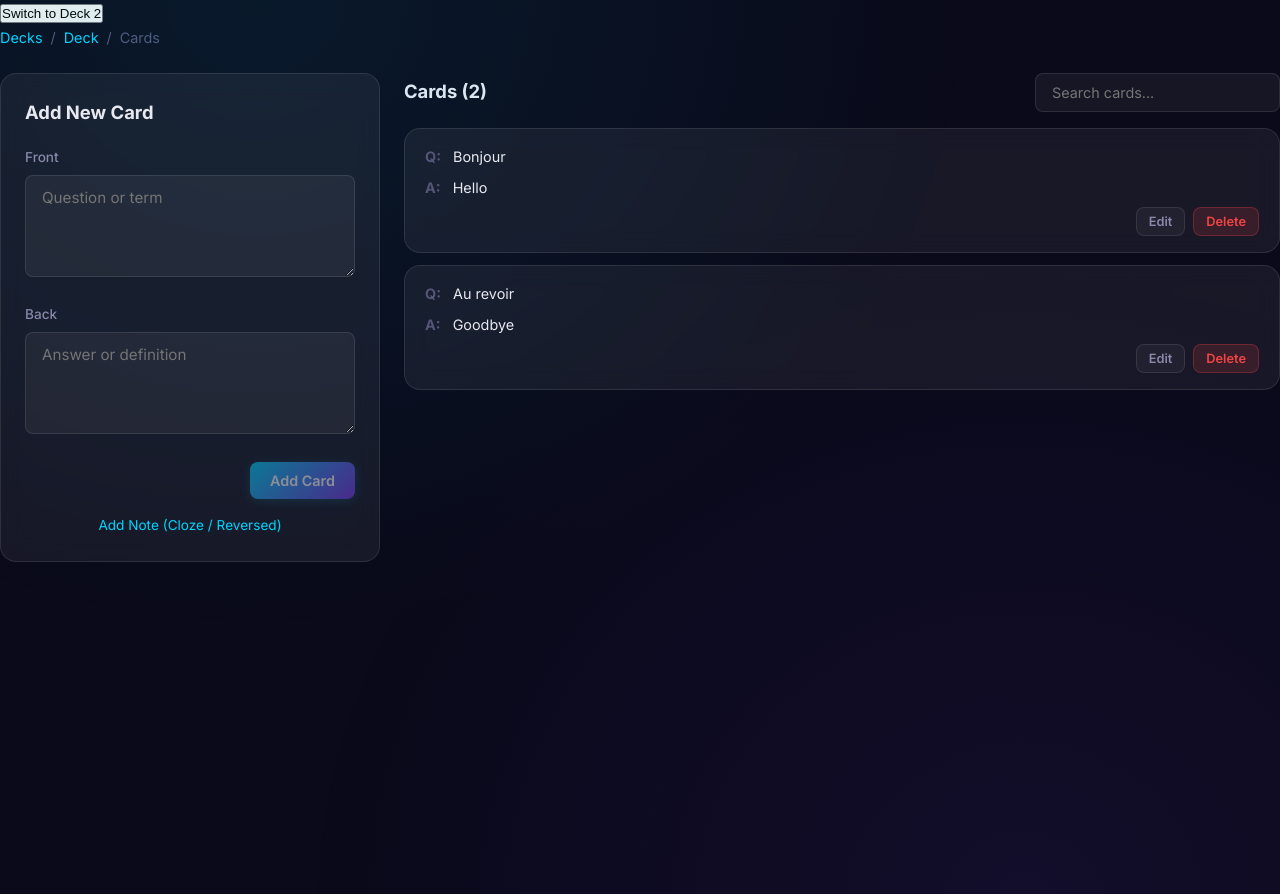
CardEditorPage UI Async Race Conditions › staleerror doesn'treplaceB: late error from A does not replace loaded note B
The image size is (1280, 894).
Expected: the heading "Cards (2)" is shown, [404,77,487,107]
// Click Edit A (slow), then Edit B (fast)
Click the 1st button "Edit".
click(1160, 221)  # box [1136,207,1185,236]
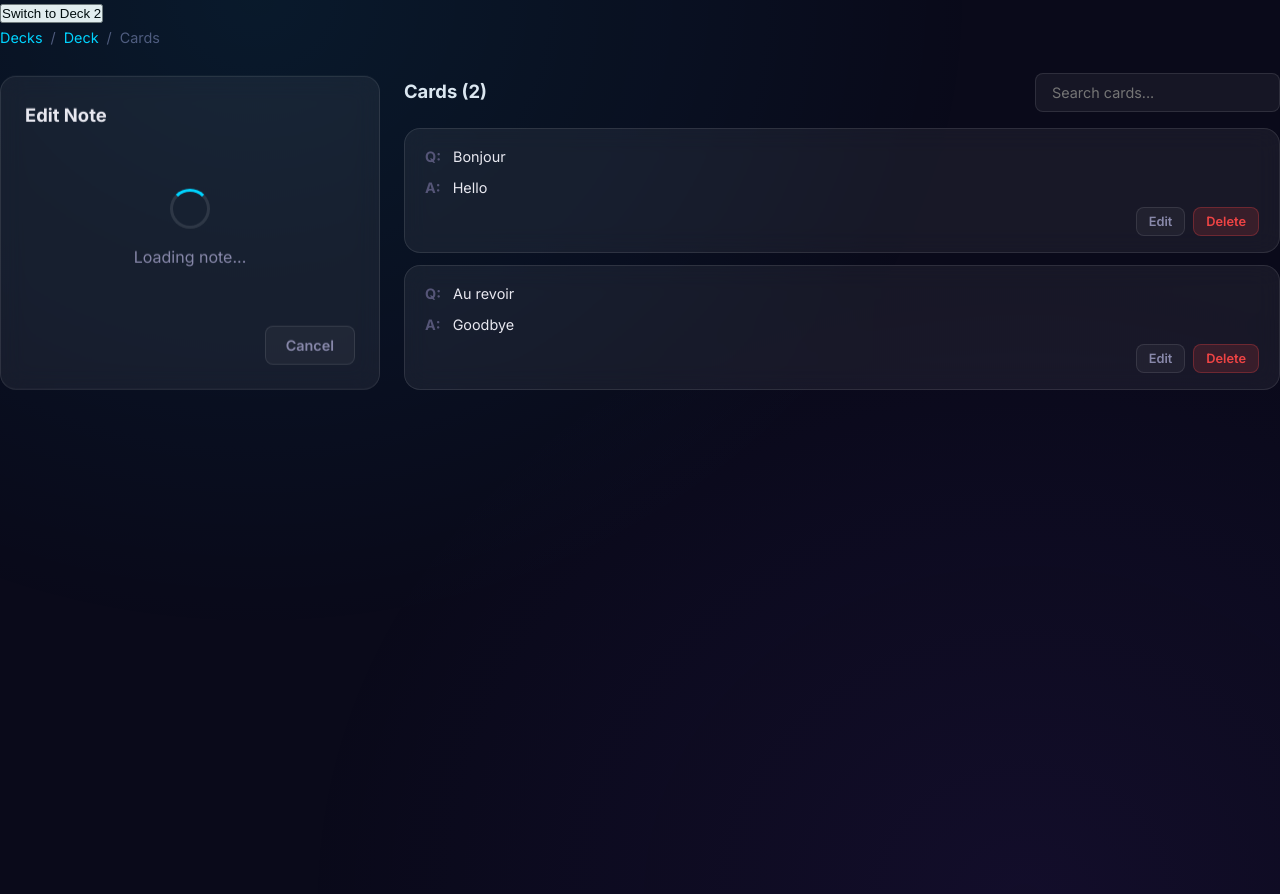
Click the 2nd button "Edit".
click(1160, 358)  # box [1136,344,1185,373]
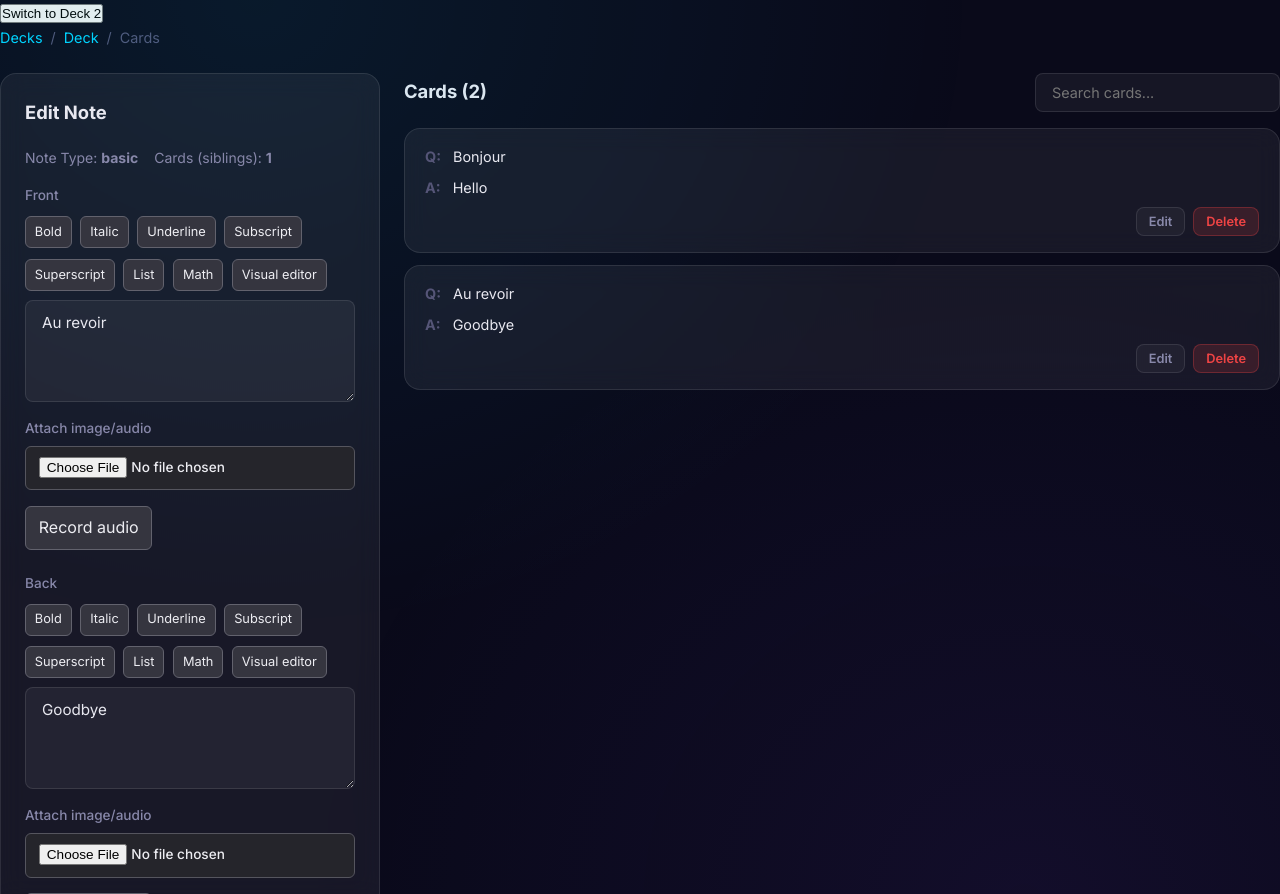
Expected: the text box labelled "Front" holds "Au revoir", [25,300,355,402]
Expected: the message is gone
